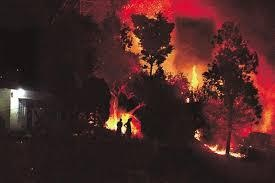fire: (101, 101, 141, 135)
